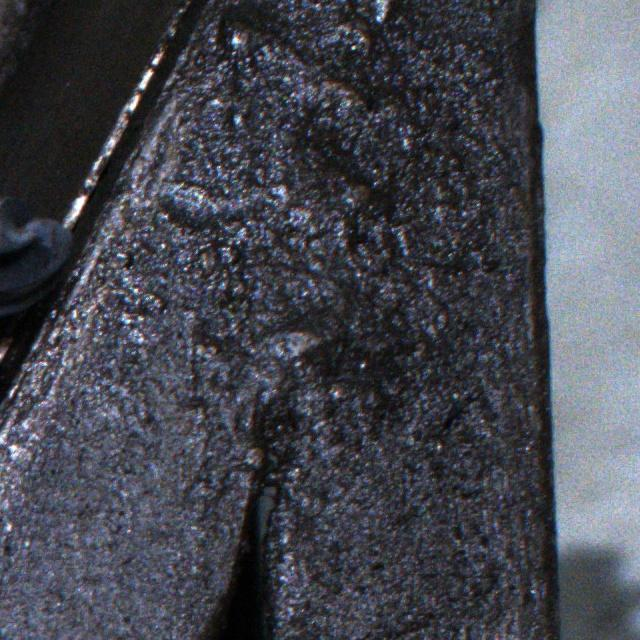tool_b: (0, 196, 69, 311)
